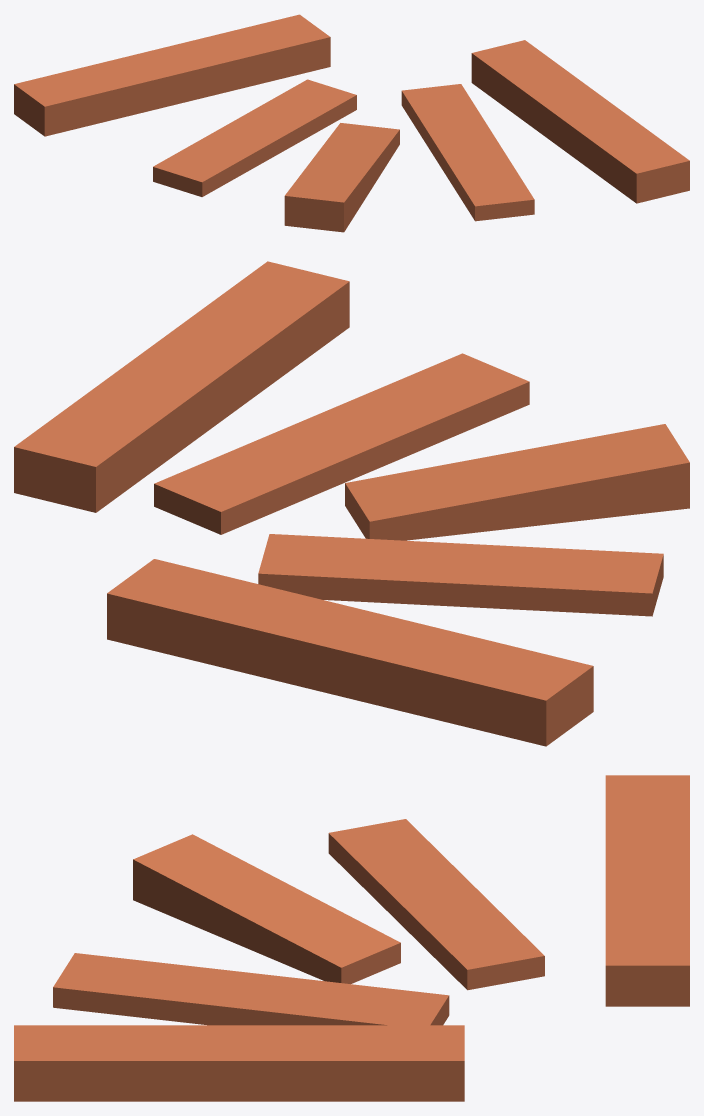
File: path_woodCorner.fbx
The picture shows the model from 3 angles, top to bottom: view 1: azimuth 30°, elevation 25°; view 2: azimuth 150°, elevation 25°; view 3: azimuth 270°, elevation 25°; orthographic projection. The views are drawn at different scales.
Visible parts, largest first — view 1: path_woodCorner; view 2: path_woodCorner; view 3: path_woodCorner.
Part boxes in pixels (box(x1,y1,x2,y2)): path_woodCorner: box(14, 14, 689, 232); path_woodCorner: box(14, 261, 689, 746); path_woodCorner: box(14, 775, 689, 1101).
Bounding box in the file's own units: 7.5 × 0.5 × 7.5.
